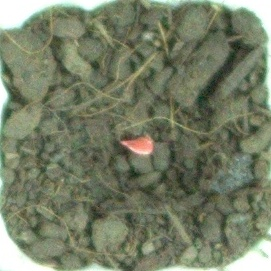pepper seed: (41, 54, 197, 211)
